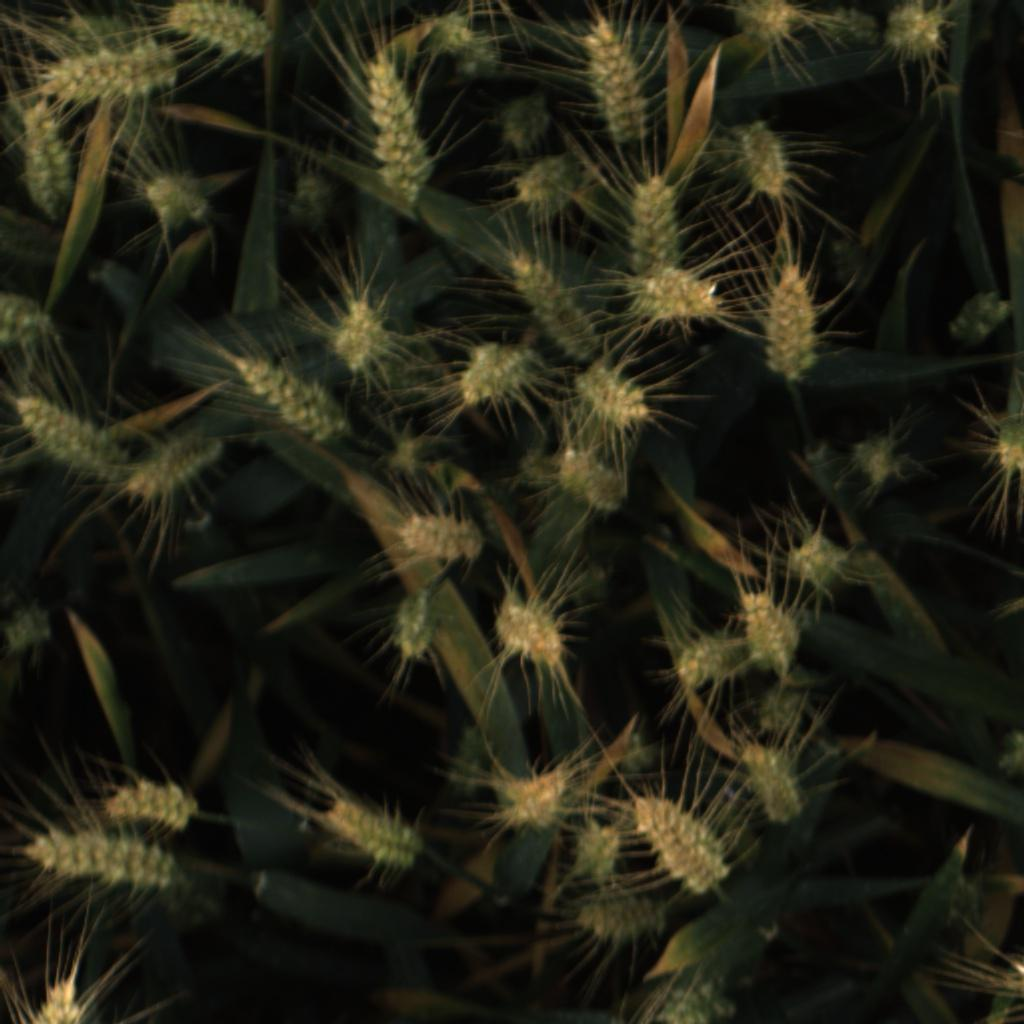0-0: (225, 346, 354, 449), (12, 388, 132, 493), (22, 821, 191, 895), (628, 786, 736, 898), (363, 48, 442, 201), (503, 247, 603, 360), (39, 42, 178, 116), (316, 791, 427, 874), (126, 416, 227, 507), (583, 11, 651, 143), (758, 260, 822, 392), (620, 170, 688, 282), (733, 733, 810, 827), (19, 101, 77, 225), (165, 1, 280, 61), (739, 676, 831, 751), (96, 775, 203, 836), (629, 263, 726, 326), (390, 502, 487, 565), (417, 3, 497, 78), (727, 117, 794, 204), (732, 583, 799, 669), (570, 360, 653, 427), (489, 766, 571, 832), (325, 294, 393, 373), (456, 336, 529, 408), (942, 279, 1015, 350), (577, 892, 668, 947), (99, 89, 171, 157), (54, 11, 155, 58), (144, 168, 215, 233), (510, 152, 582, 216), (487, 85, 554, 151), (442, 721, 500, 797), (786, 526, 852, 592), (670, 623, 735, 689), (0, 288, 62, 357), (284, 162, 341, 236), (646, 977, 735, 1024), (563, 814, 625, 880), (1, 218, 75, 273), (373, 424, 453, 473), (374, 358, 457, 403), (455, 418, 512, 480), (882, 0, 945, 55), (476, 485, 527, 552), (732, 1, 803, 47), (30, 976, 97, 1024), (937, 869, 985, 936), (490, 591, 541, 654), (526, 600, 572, 668), (848, 435, 905, 487), (3, 600, 57, 654), (823, 237, 874, 293), (554, 443, 606, 496), (575, 465, 628, 516), (606, 728, 661, 775), (823, 5, 880, 43), (393, 587, 431, 640), (989, 421, 1024, 477), (992, 723, 1024, 778), (519, 444, 563, 484), (392, 622, 431, 665)
